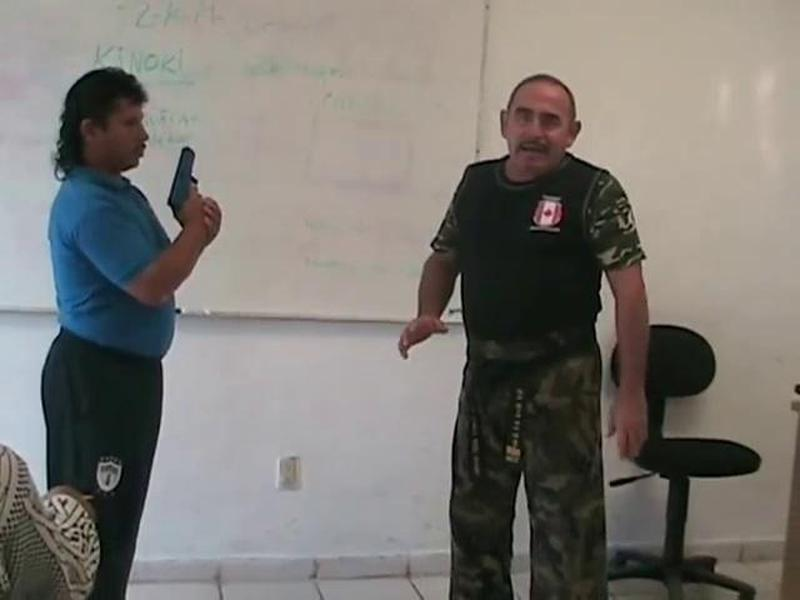Pistola: (158, 138, 216, 239)
